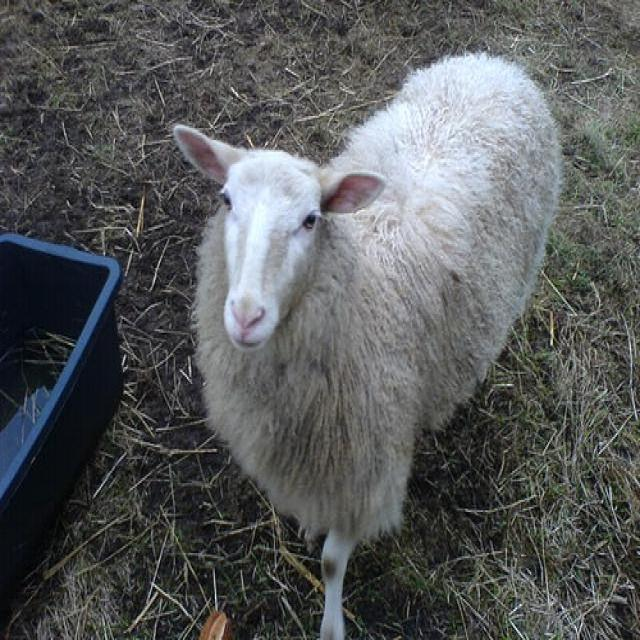sheep: (170, 49, 558, 638)
